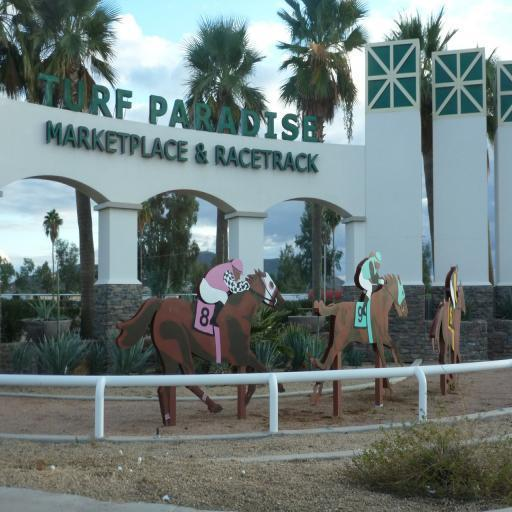horse: (114, 268, 286, 428), (312, 274, 408, 404), (427, 278, 469, 387)
